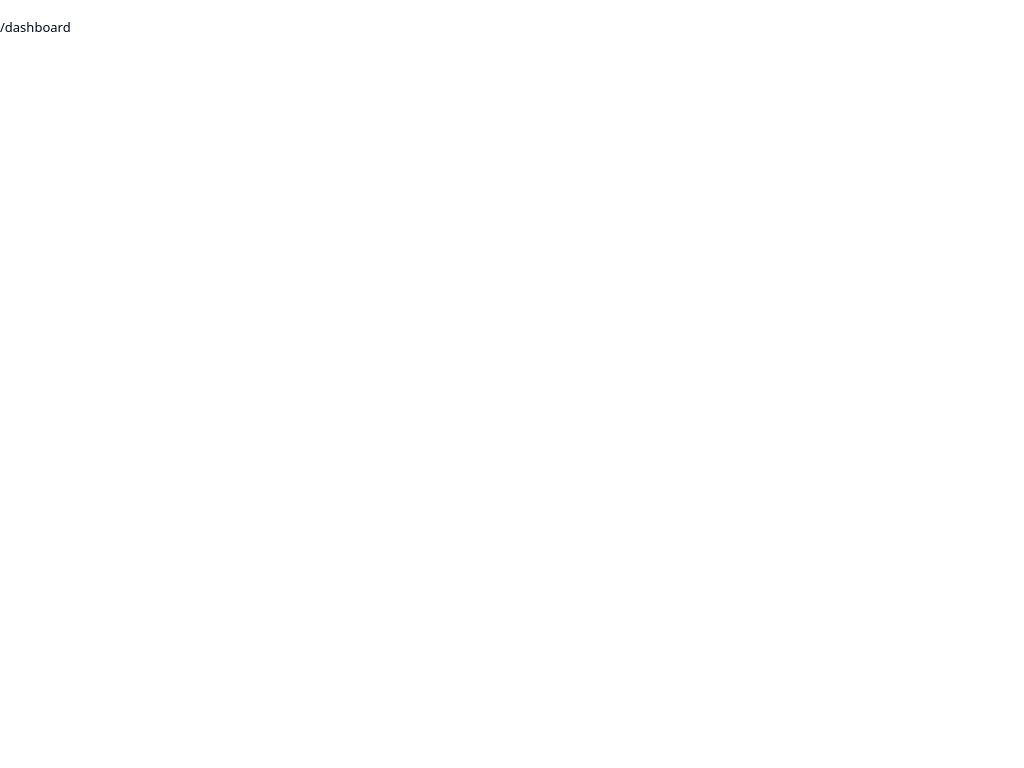
Scenario: CommandBar — Ctrl/⌘+K (#347 D10) › opens a sales order or quotation by number
Press k
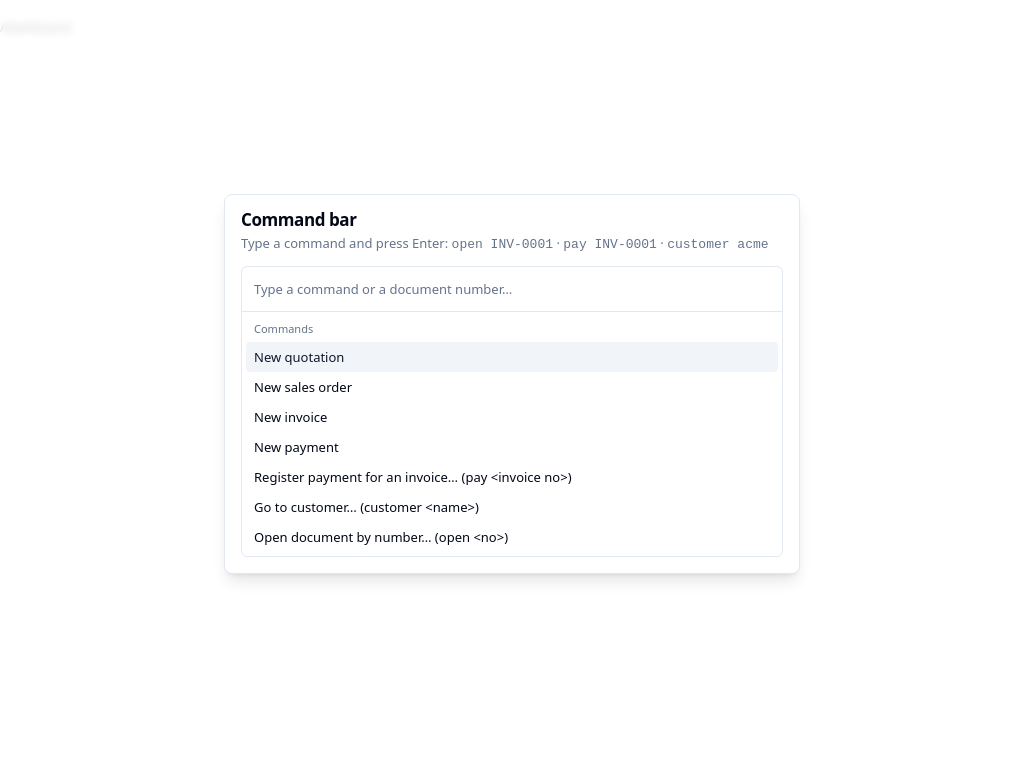
Type "SO-2026-0005" into the dropdown with placeholder "Type a command or a document number…".
click(512, 289); type("SO-2026-0005")  # box left=254, top=267, right=770, bottom=311
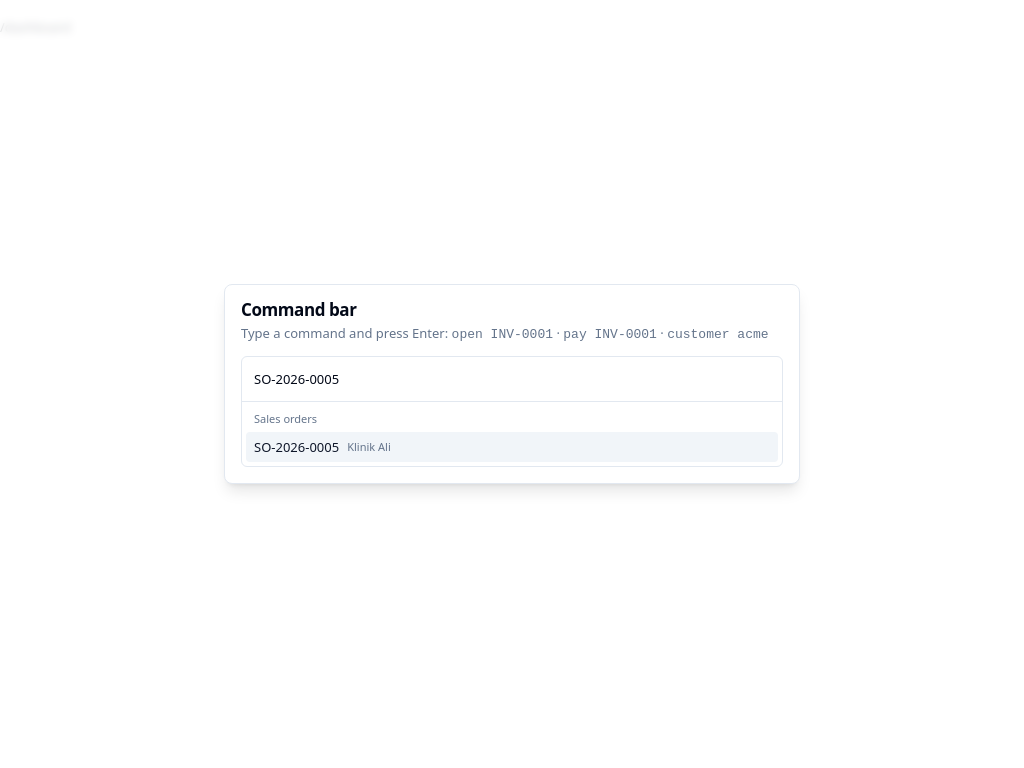
Click the text "SO-2026-0005".
click(297, 447)  # box left=254, top=438, right=339, bottom=456
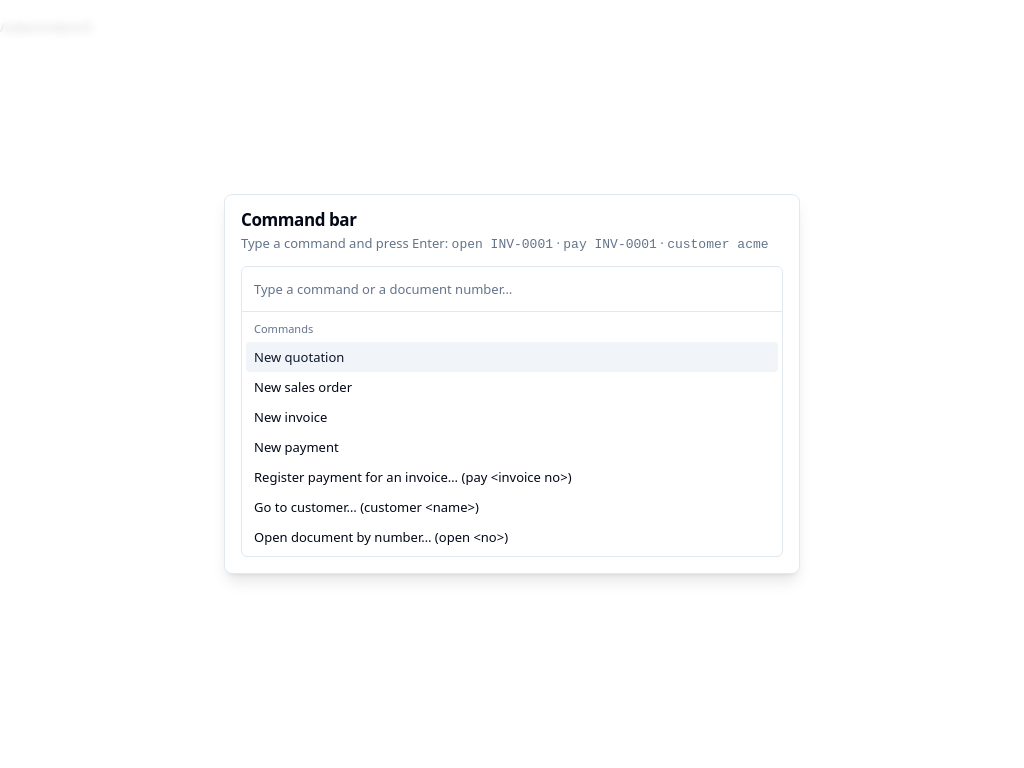
Press k
Type "open QT-2026-0004" into the dropdown with placeholder "Type a command or a document number…".
click(512, 289); type("open QT-2026-0004")  # box left=254, top=267, right=770, bottom=311
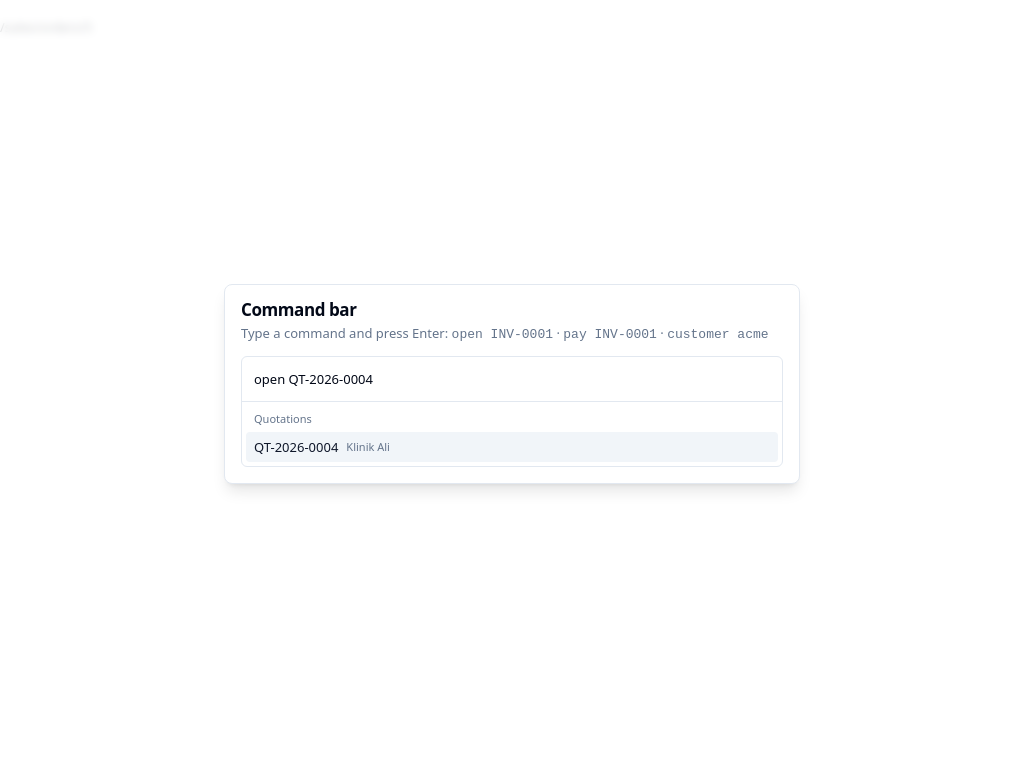
Click the text "QT-2026-0004".
click(296, 447)  # box left=254, top=438, right=338, bottom=456
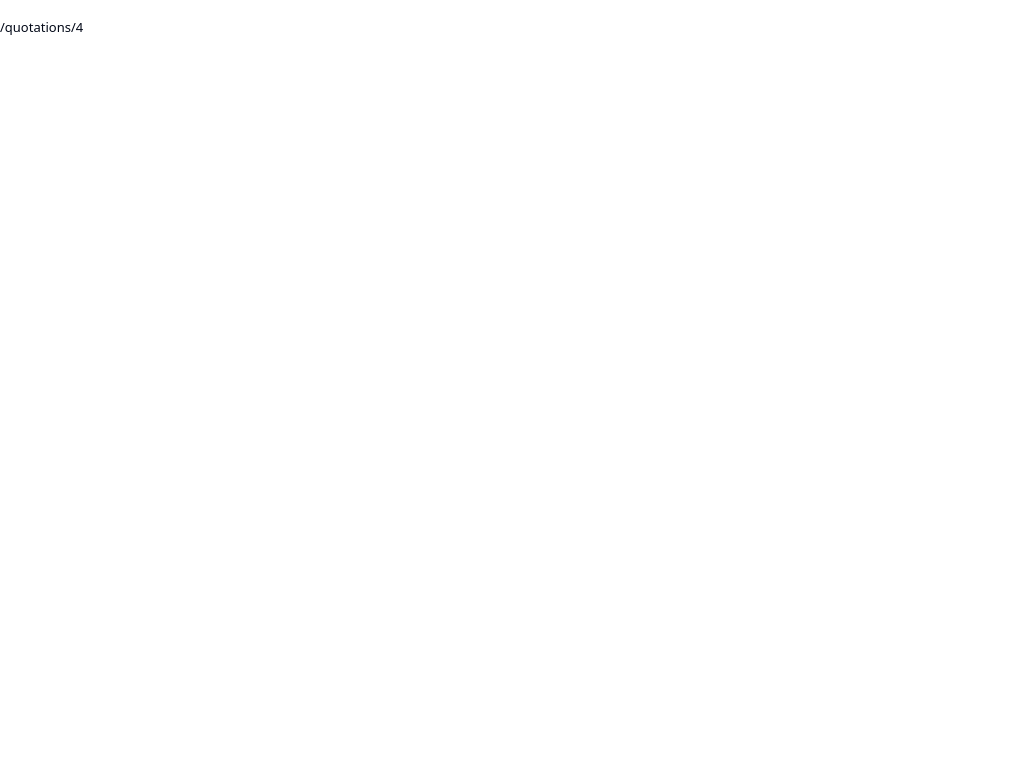
Expected: the text with test id "location" reads "/quotations/4", left=0, top=18, right=83, bottom=36
